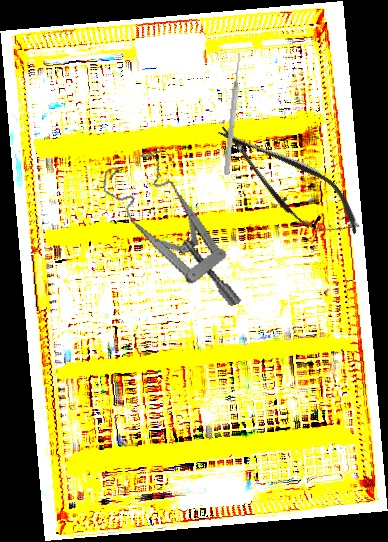Micro Scissor: (203, 108, 373, 254)
Pusher: (222, 52, 244, 176)
Speculum: (97, 139, 243, 331)
